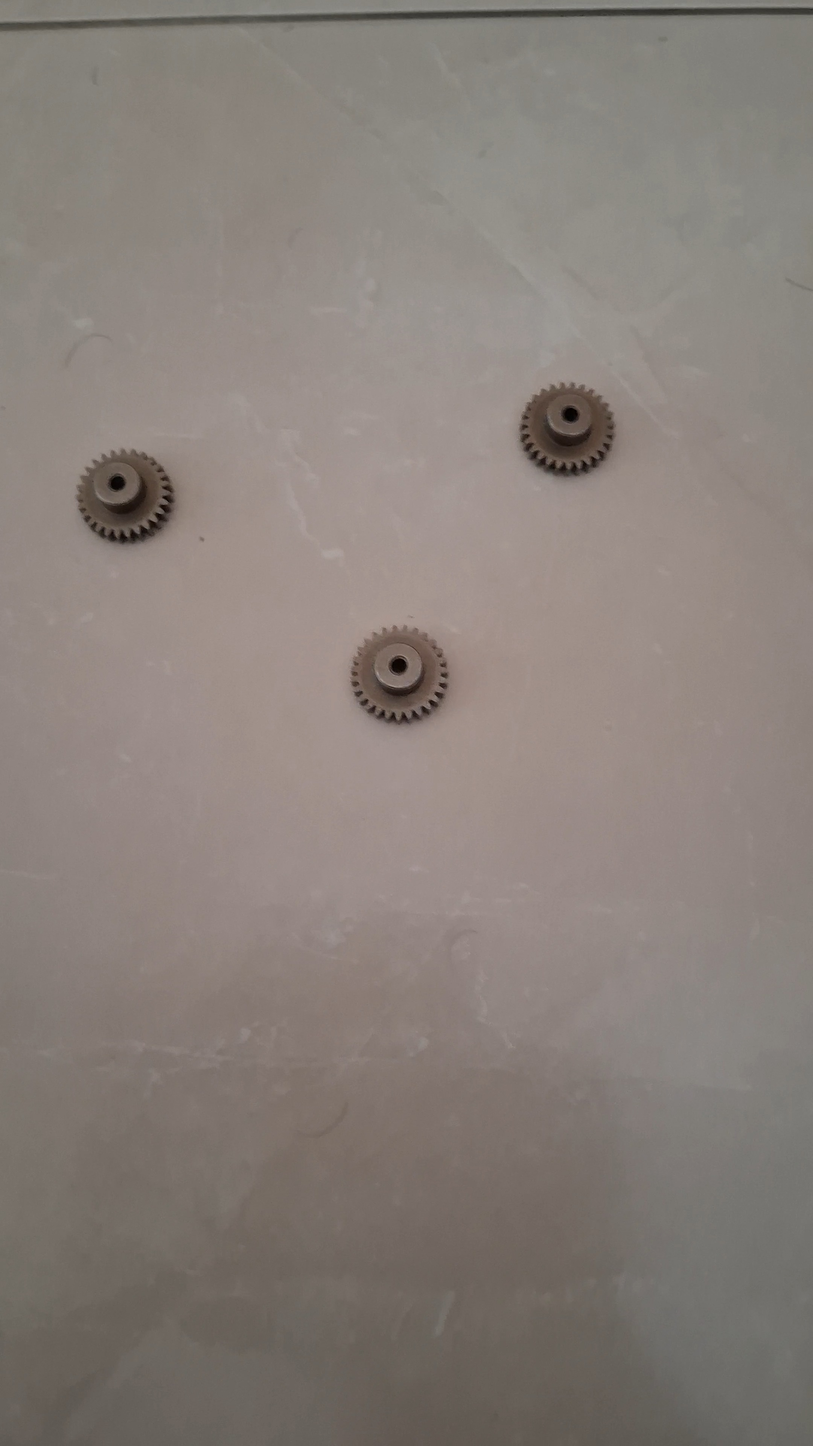spur gear: (351, 627, 448, 722), (77, 451, 174, 541), (520, 384, 614, 473)
